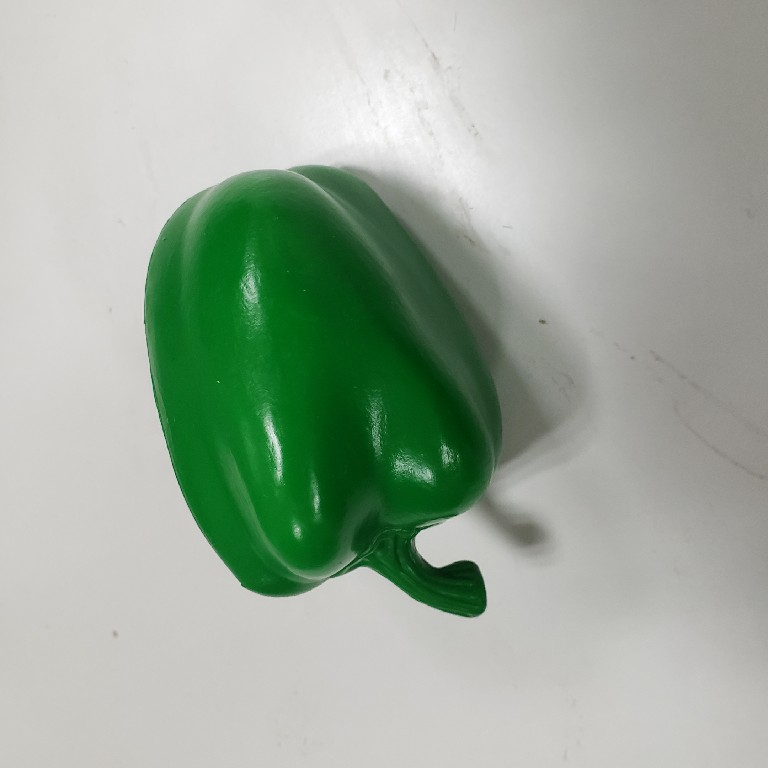fruit_pepper: (139, 161, 507, 621)
